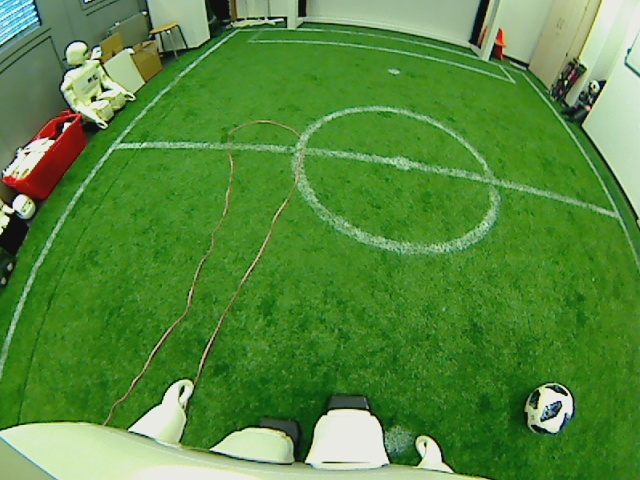ball: (523, 379, 578, 436)
